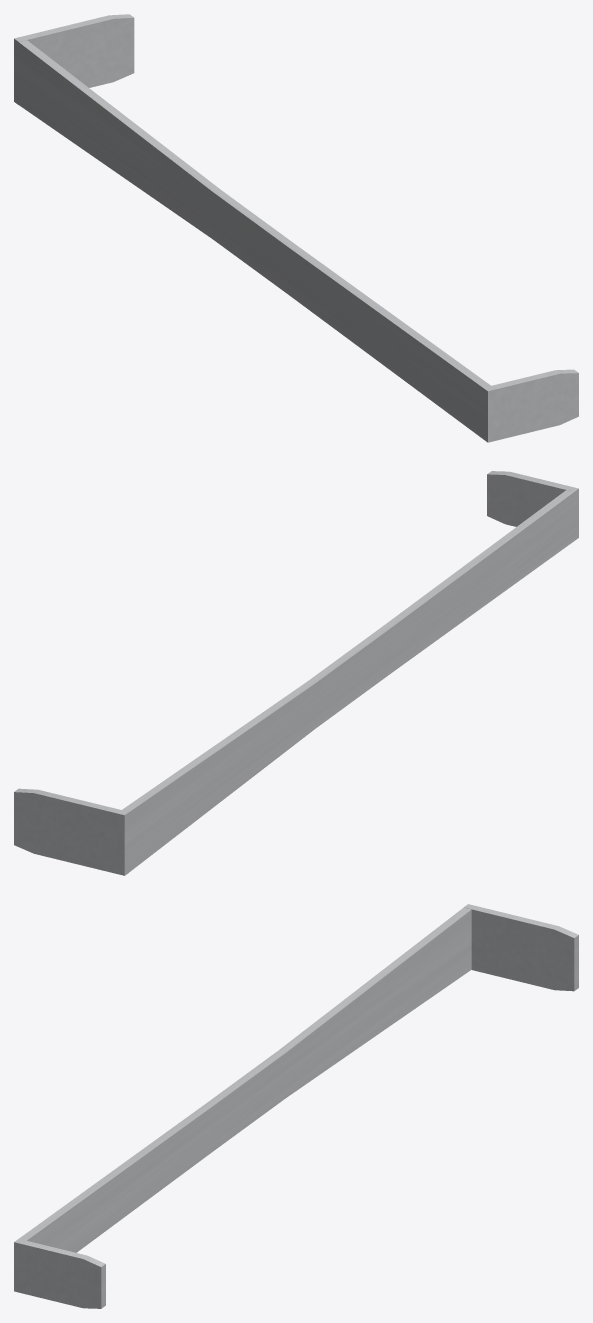
File: army_navy.glb
3 views of the same model, one above another, from view 1: azimuth 30°, elevation 25°; view 2: azimuth 150°, elevation 25°; view 3: azimuth 330°, elevation 25° (orthographic). The views are drawn at different scales.
Visible parts, largest first — view 1: s8_army_navy; view 2: s8_army_navy; view 3: s8_army_navy.
Part boxes in pixels (box(x1,y1,x2,y2)): s8_army_navy: box(14, 14, 578, 442); s8_army_navy: box(14, 471, 578, 875); s8_army_navy: box(14, 904, 578, 1308).
Bounding box in the file's own units: 0.0306 × 0.016 × 0.2172.
Materials: 1 (1 with a texture image).
